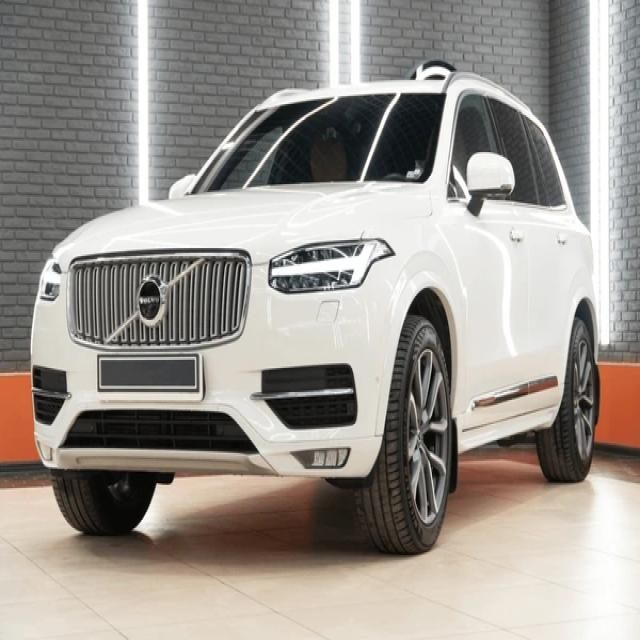volvo: (131, 277, 172, 331)
